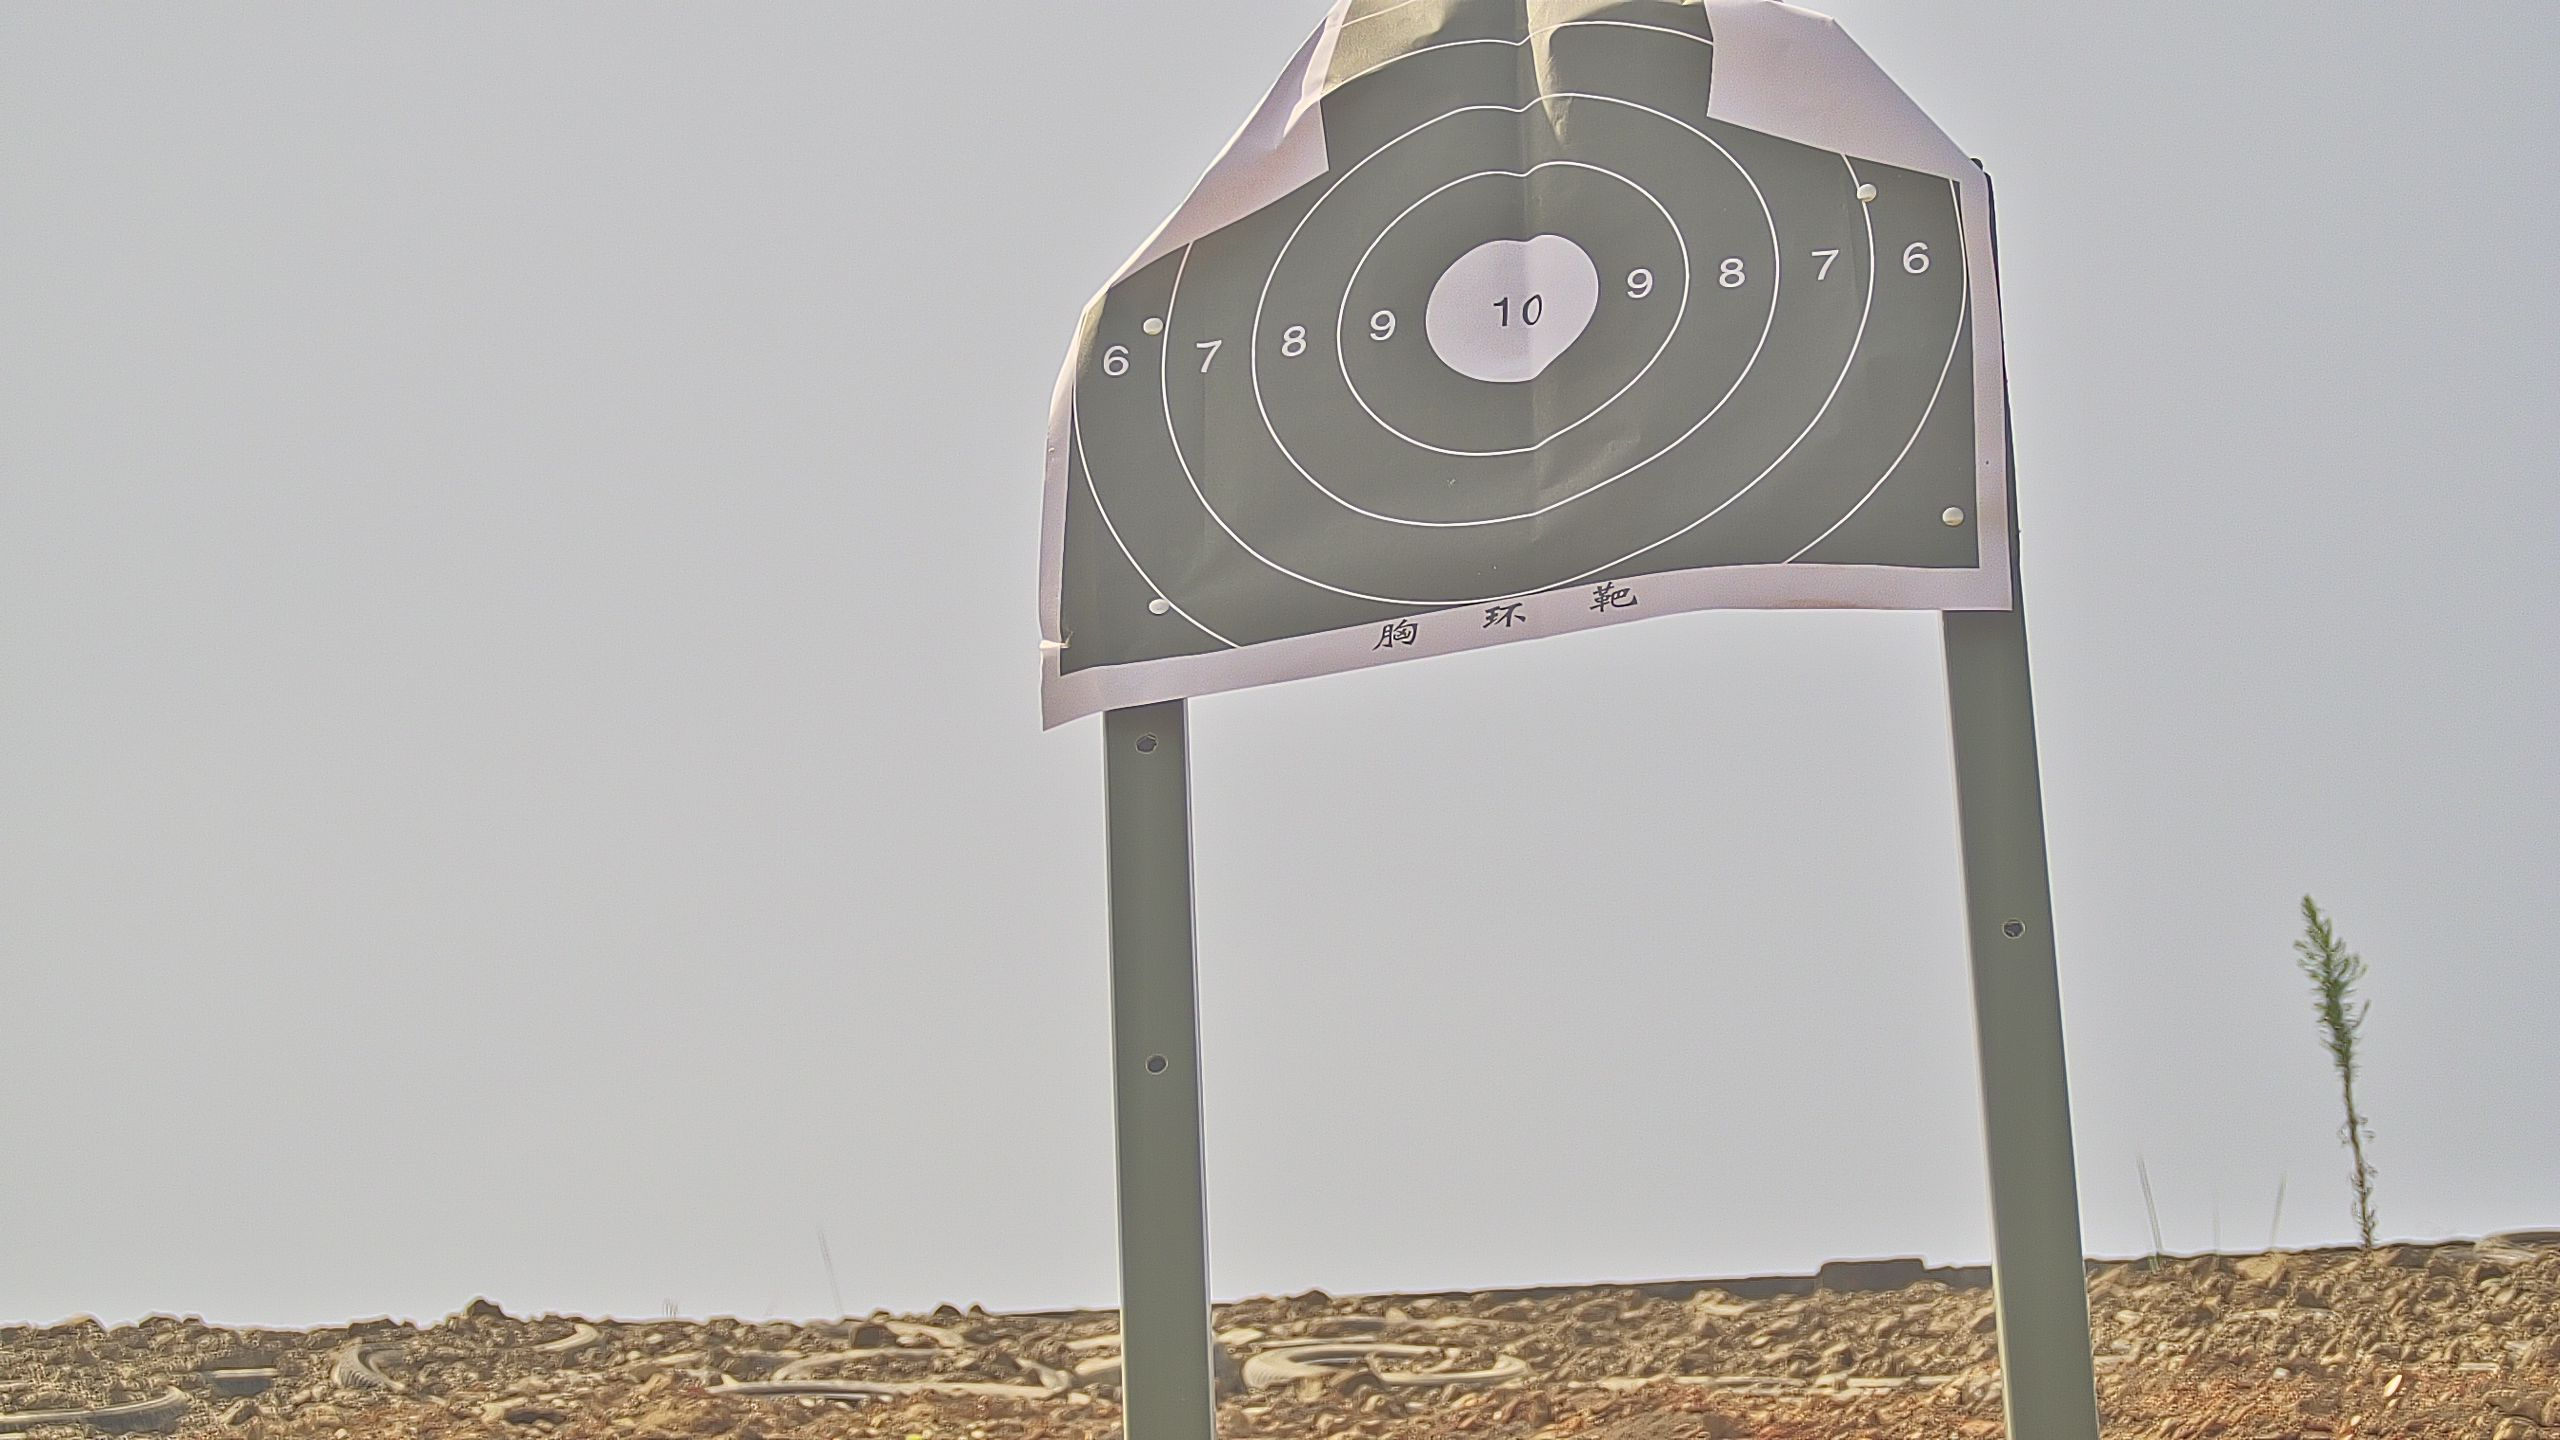kernel: (1512, 309, 1517, 315)
target: (1058, 2, 1989, 680)
ten: (1422, 236, 1595, 382)
